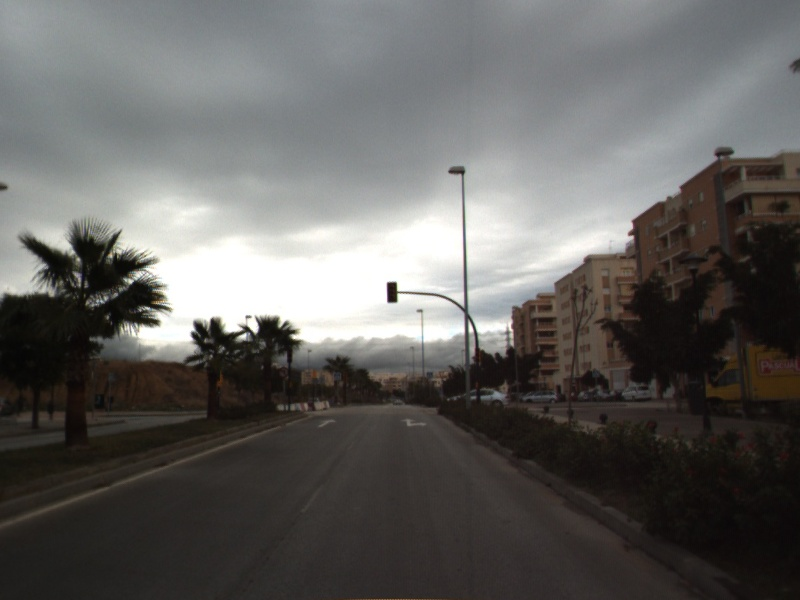STRAIGHT: (316, 416, 339, 429)
STRAIGHT_RIGHT: (399, 416, 429, 429)
